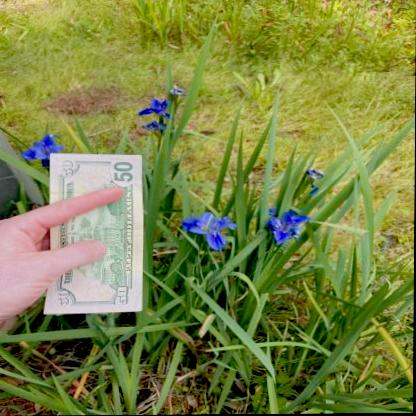fifty-back: (44, 154, 143, 314)
